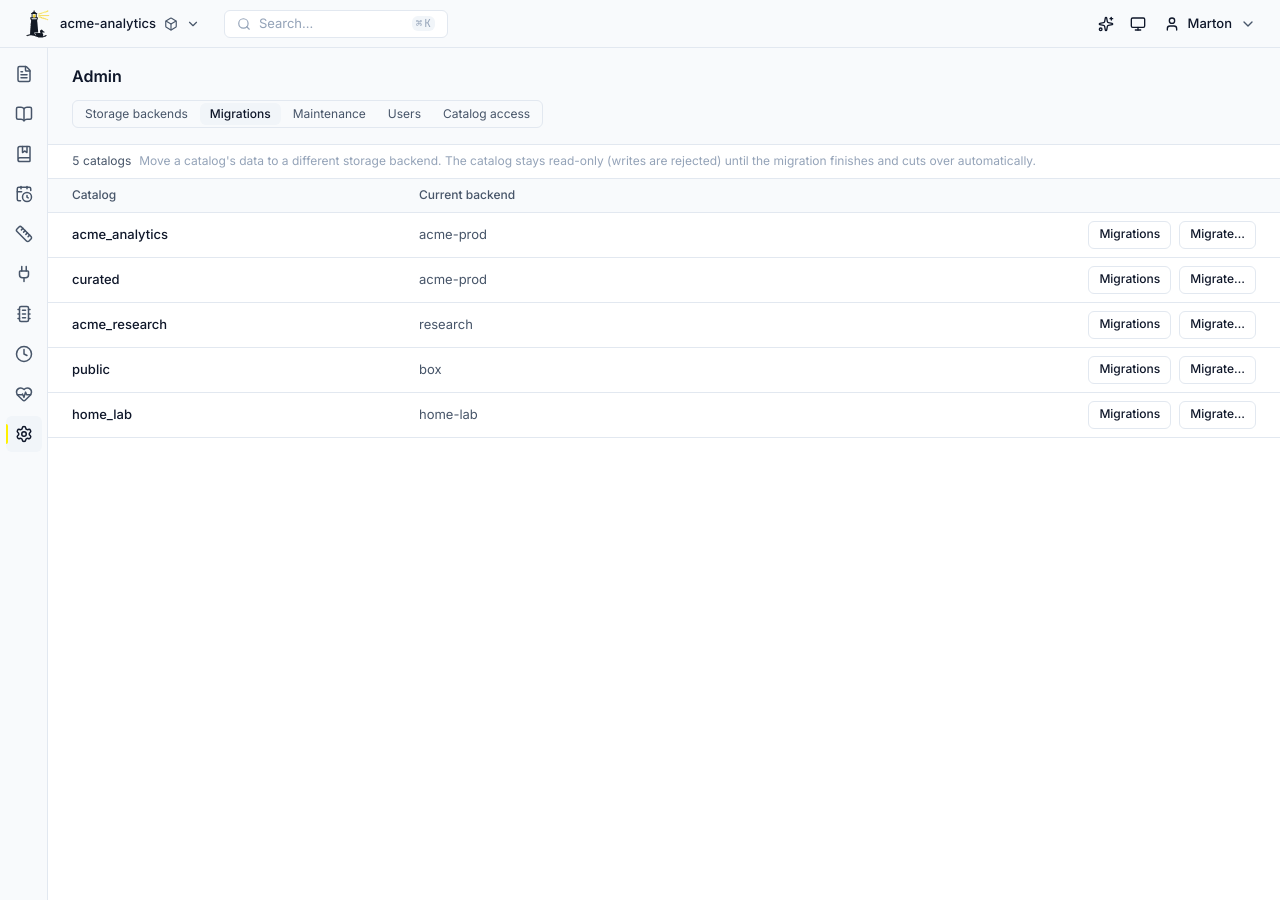
CatalogMigrationsPage › starts a migration and shows the progress panel
Click the button "Migrate…" in the row of "acme_analytics" at (1218, 235), box [1179, 221, 1256, 249]
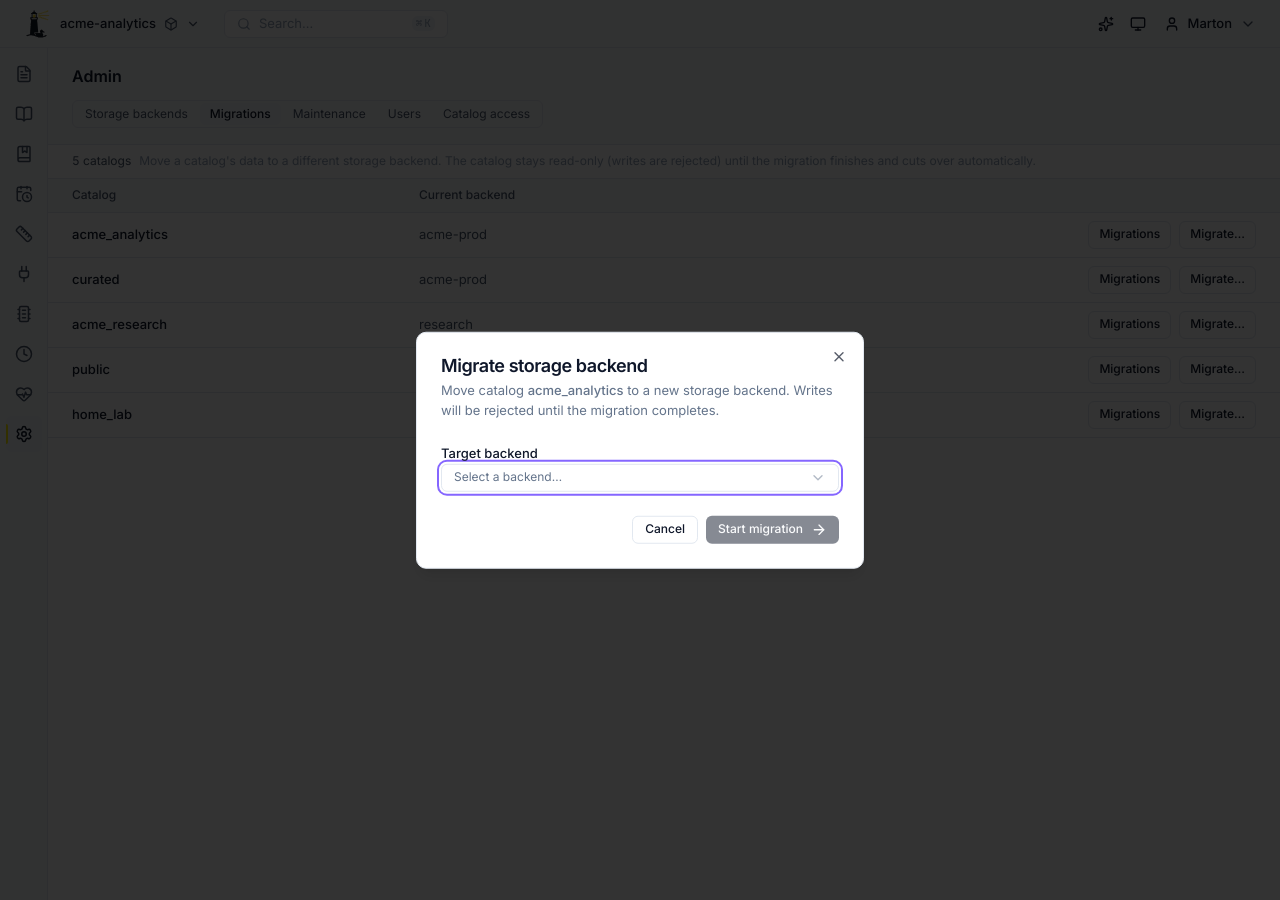
Click the dropdown named "target backend" at (508, 476), box [441, 463, 839, 491]
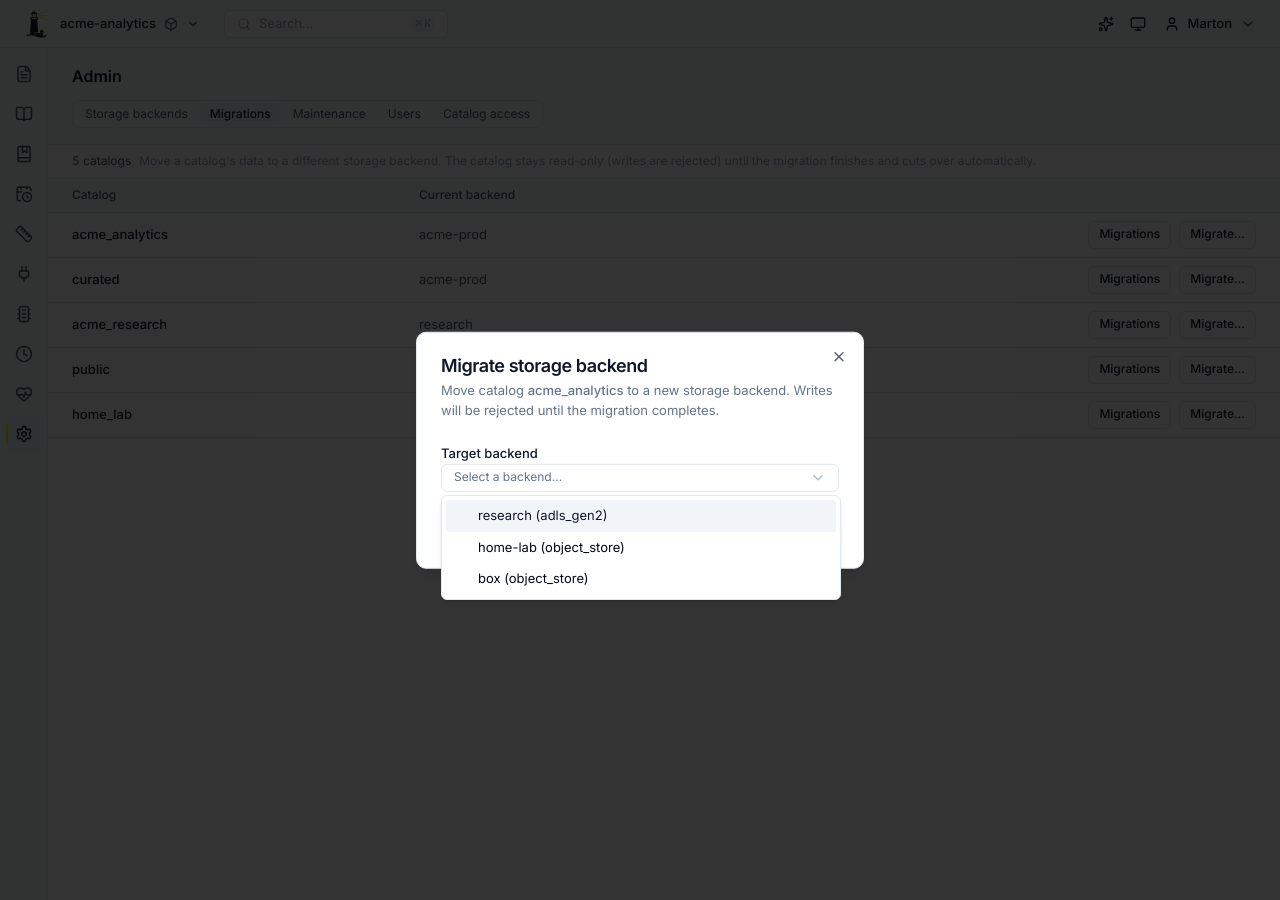
Click the option "research (adls_gen2)" at (505, 515), box [446, 500, 836, 532]
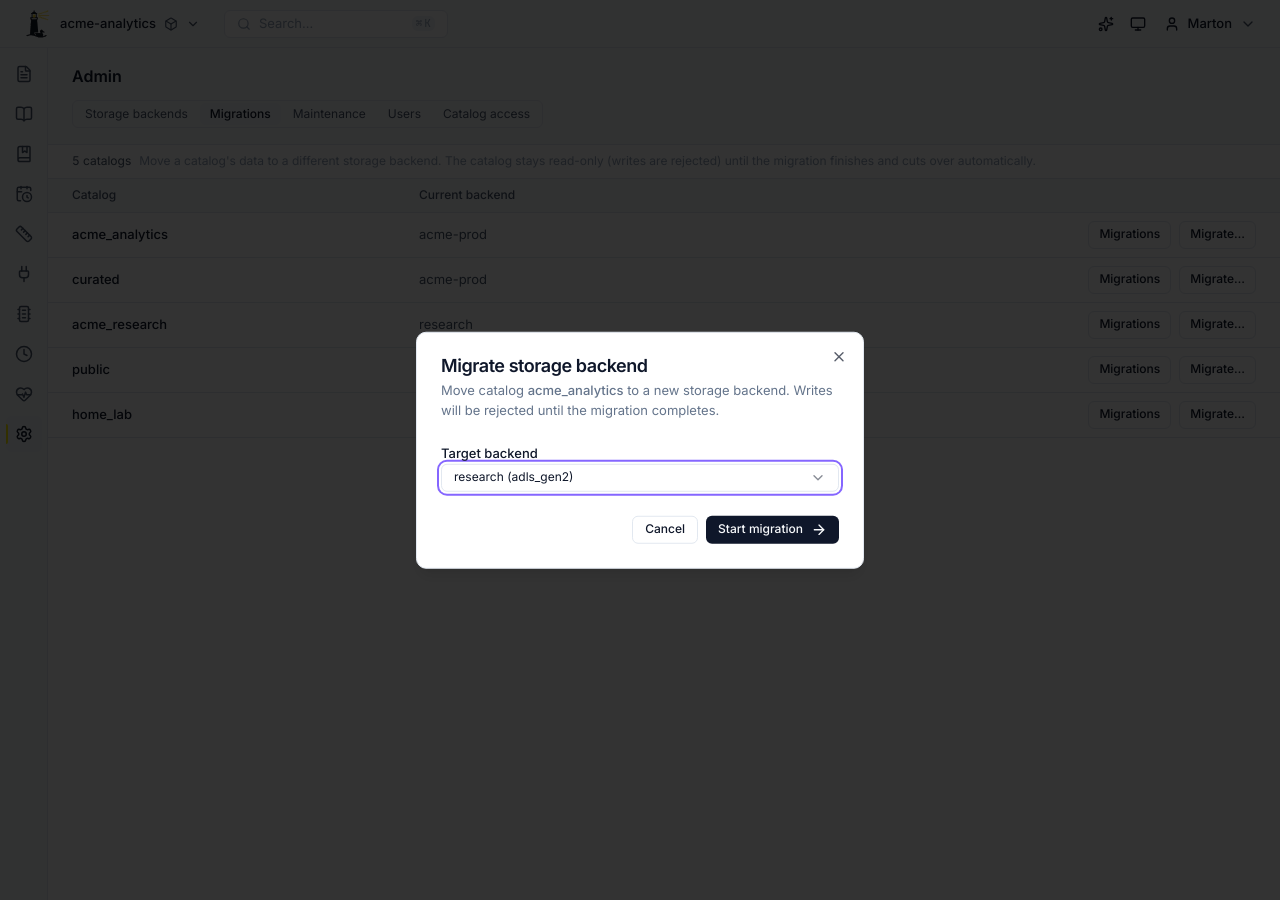
Click the button "Start migration" at (773, 529), box [706, 515, 839, 543]
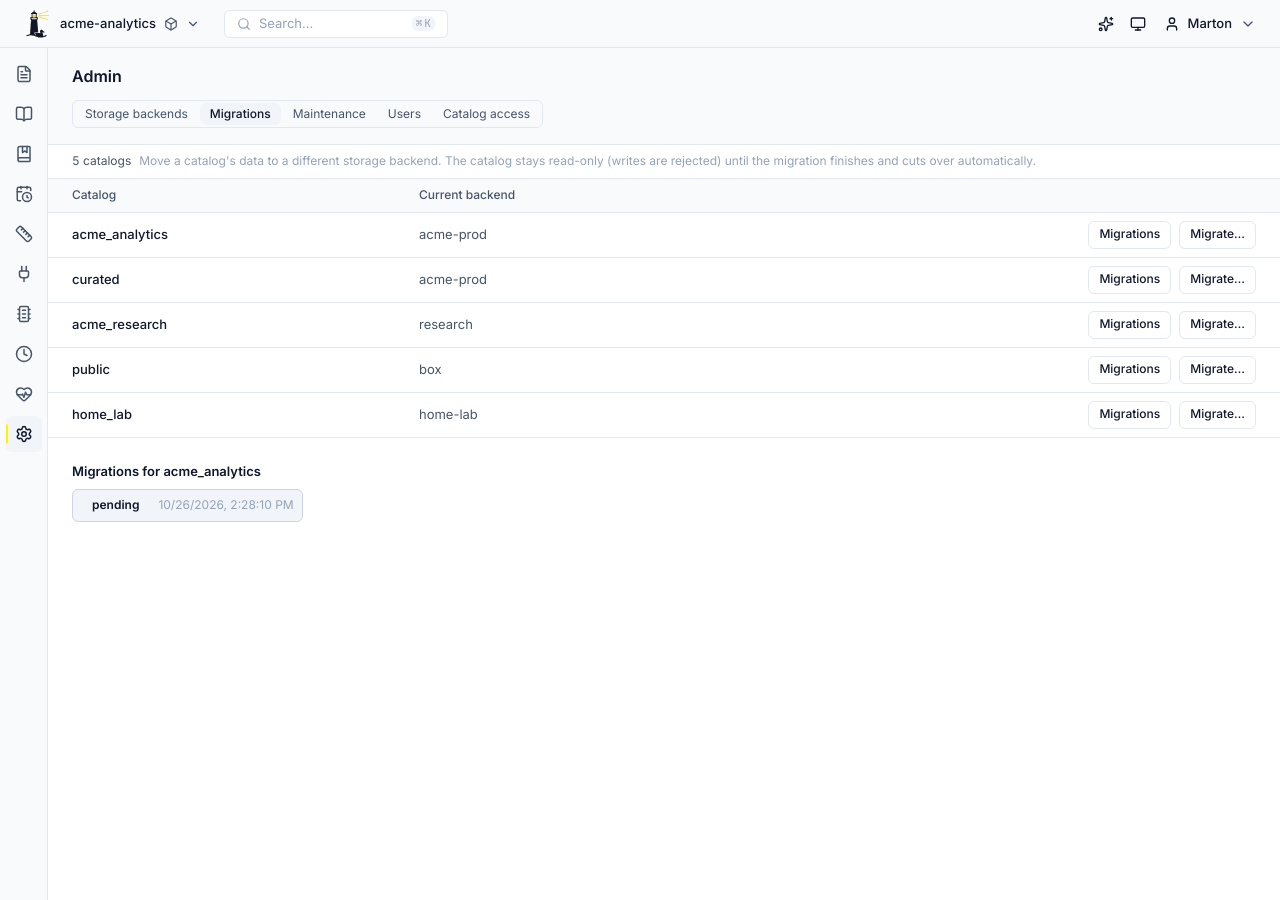
Result: the heading "Migrations for acme_analytics" is shown at [72, 463, 261, 479]
